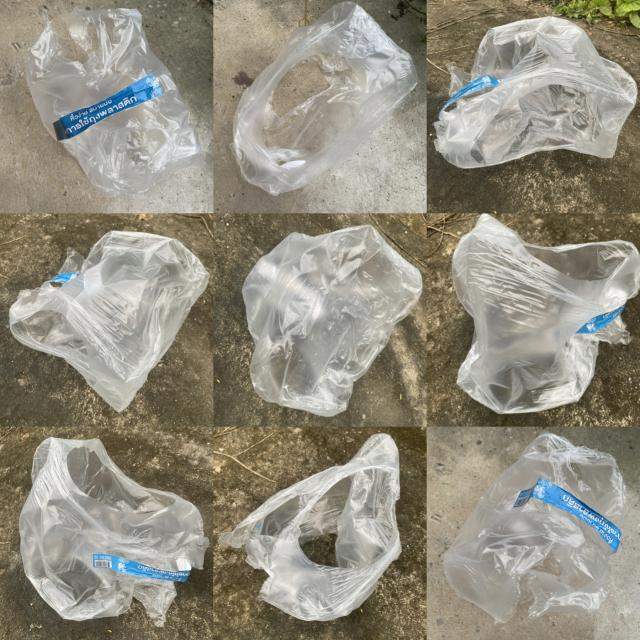Single-layer Plastic: (452, 214, 640, 414), (231, 1, 418, 195), (10, 231, 209, 411), (20, 438, 209, 626), (444, 432, 626, 622), (242, 225, 422, 416), (219, 434, 401, 621), (26, 9, 202, 197), (434, 16, 638, 168)
